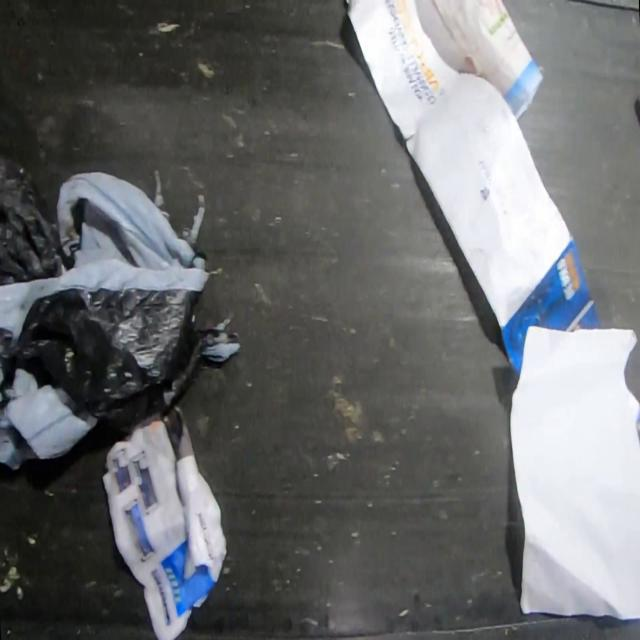soft_plastic: (0, 156, 240, 473)
